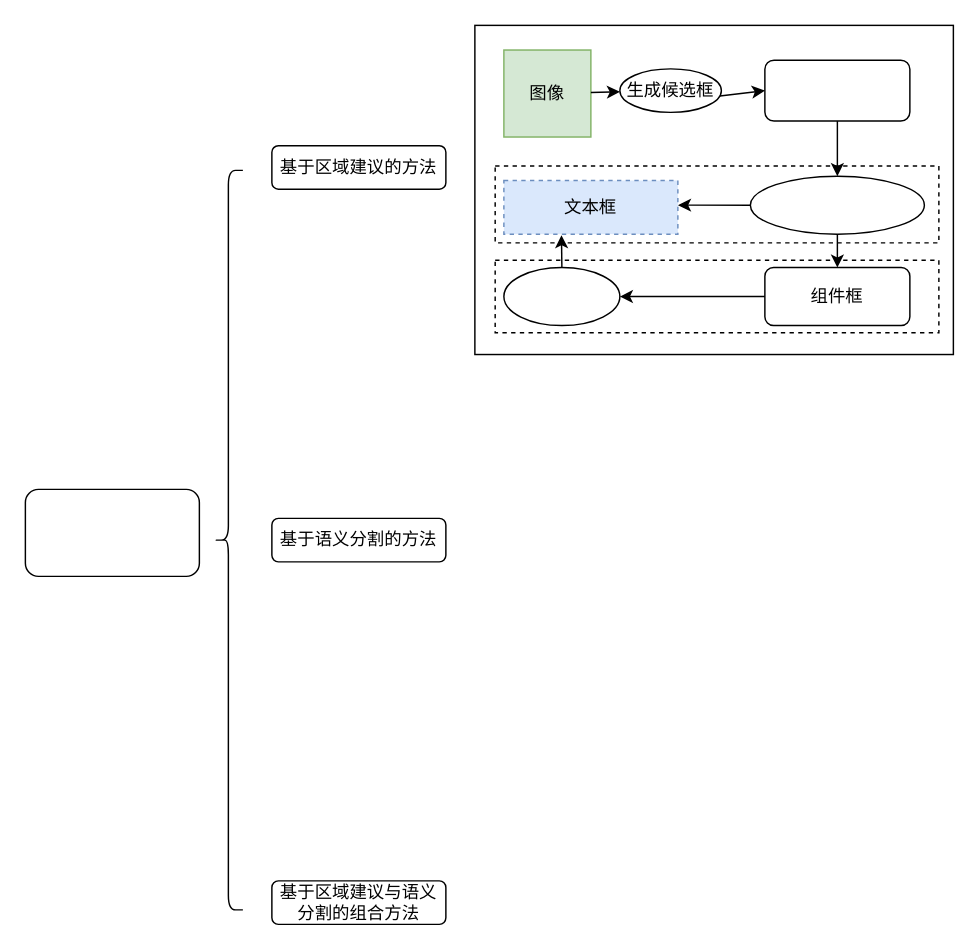
Image size: 979x950. Some labels were removed from this diagram. Each missing label, with the box of its shape:
分类器/边框回归: (749, 175, 924, 234)
文本/组件候选框: (763, 59, 910, 121)
文本检测方法: (24, 488, 199, 576)
组件连接: (502, 266, 620, 326)
